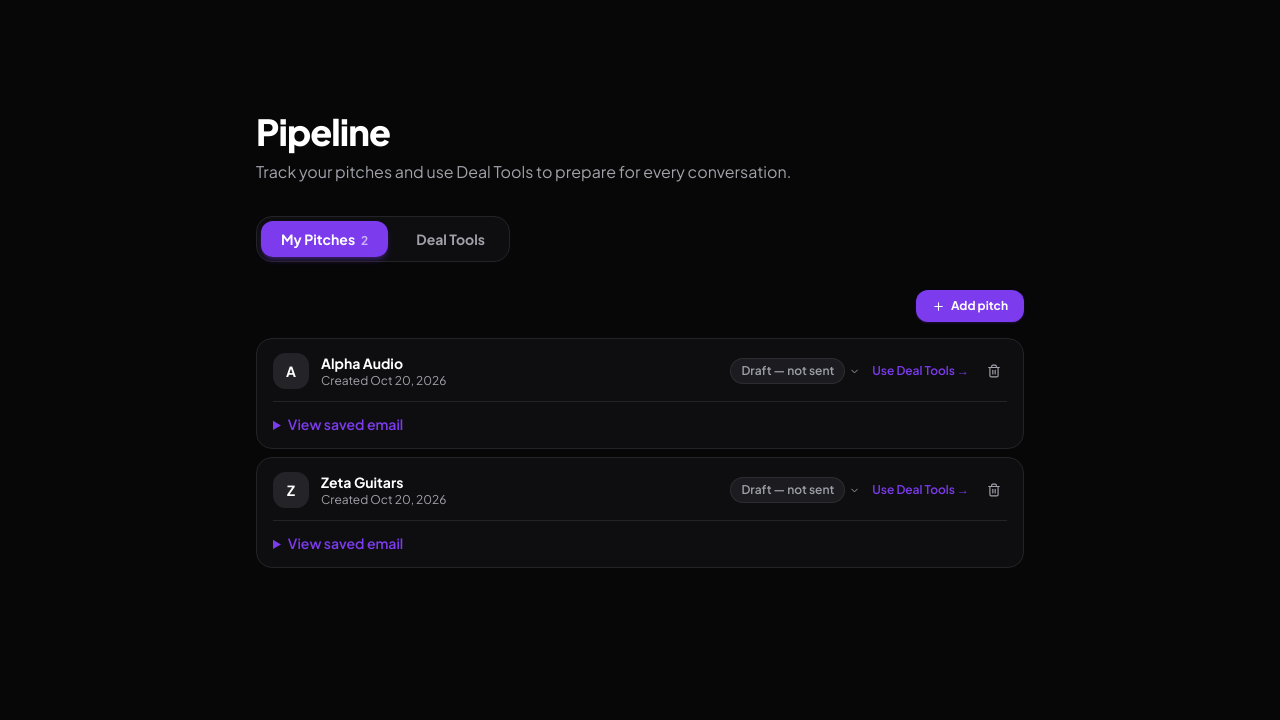
deleting a saved pitch from the Pipeline › keeps the pitch and shows the error when the server refuses
The image size is (1280, 720).
Expected: the text "Alpha Audio" is shown, top-left (321, 354), bottom-right (403, 372)
Step 1. Click the button with test id "button-delete-pitch-1" → x=994, y=371, box top-left (981, 358), bottom-right (1007, 384)
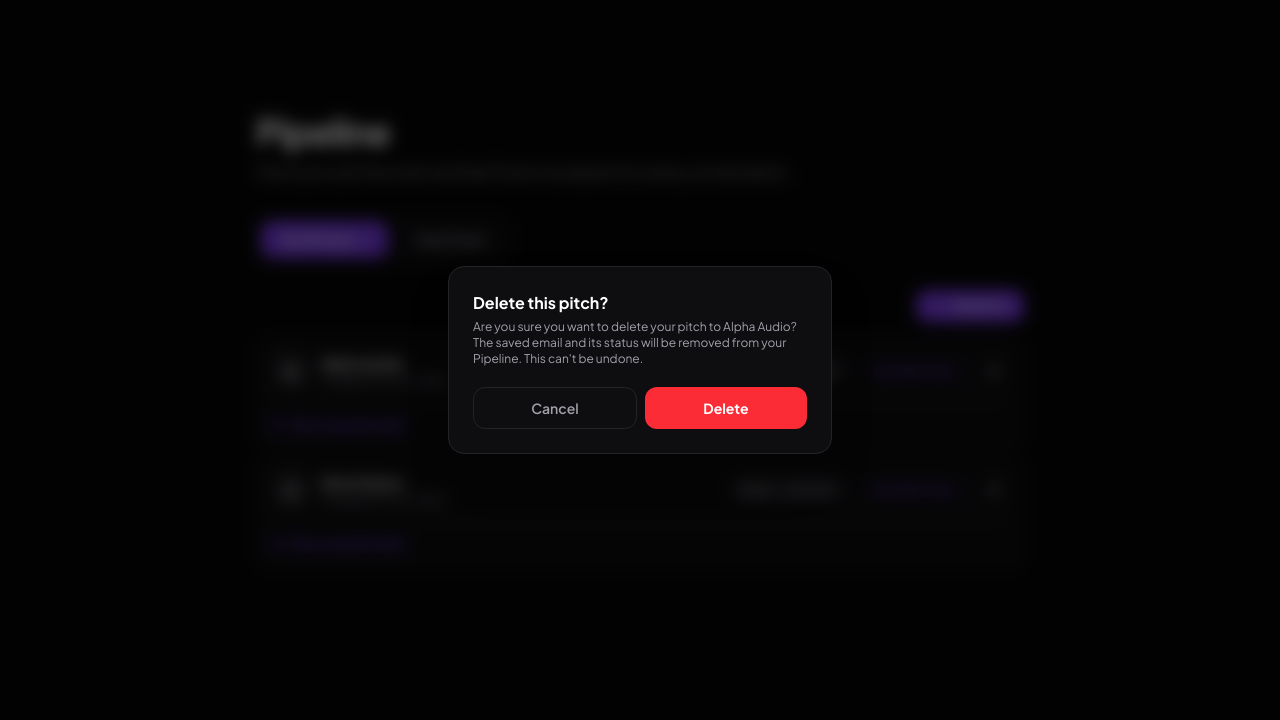
Step 2. Click the button with test id "button-confirm-delete-pitch" → x=726, y=408, box top-left (645, 387), bottom-right (807, 429)
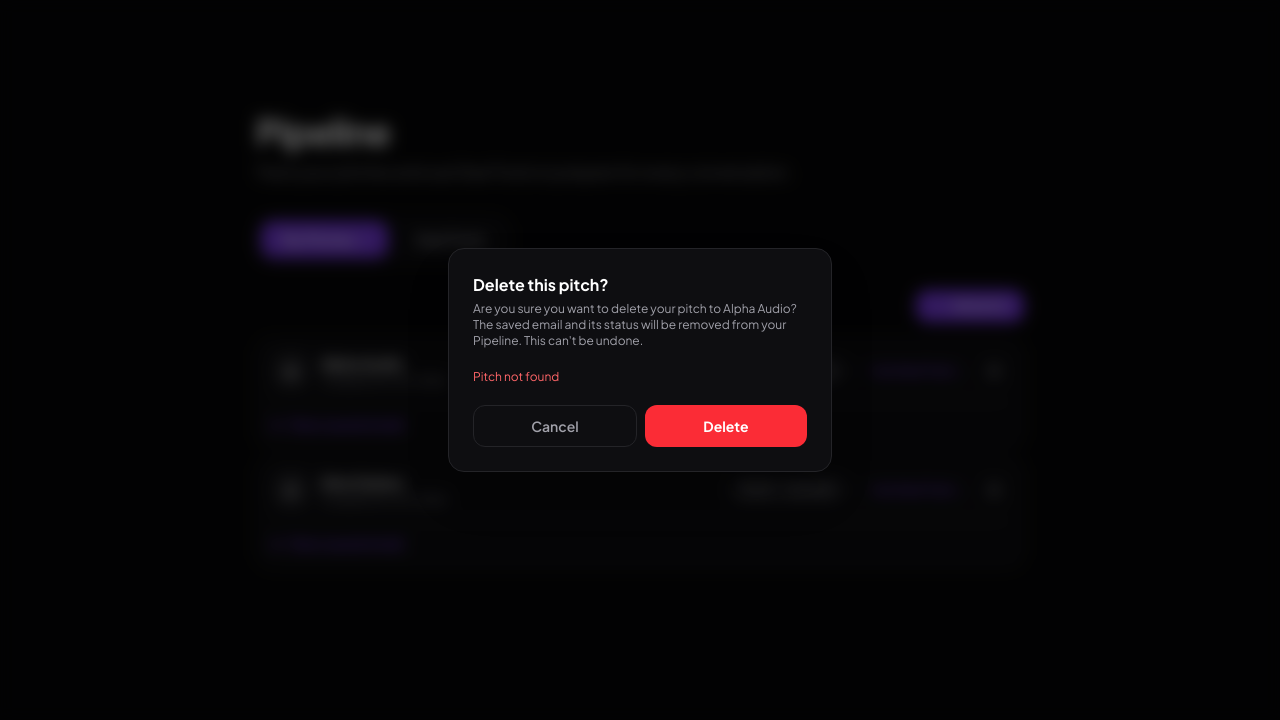
Expected: the dialog is shown
Expected: the message reads "Pitch not found", top-left (473, 369), bottom-right (559, 384)
